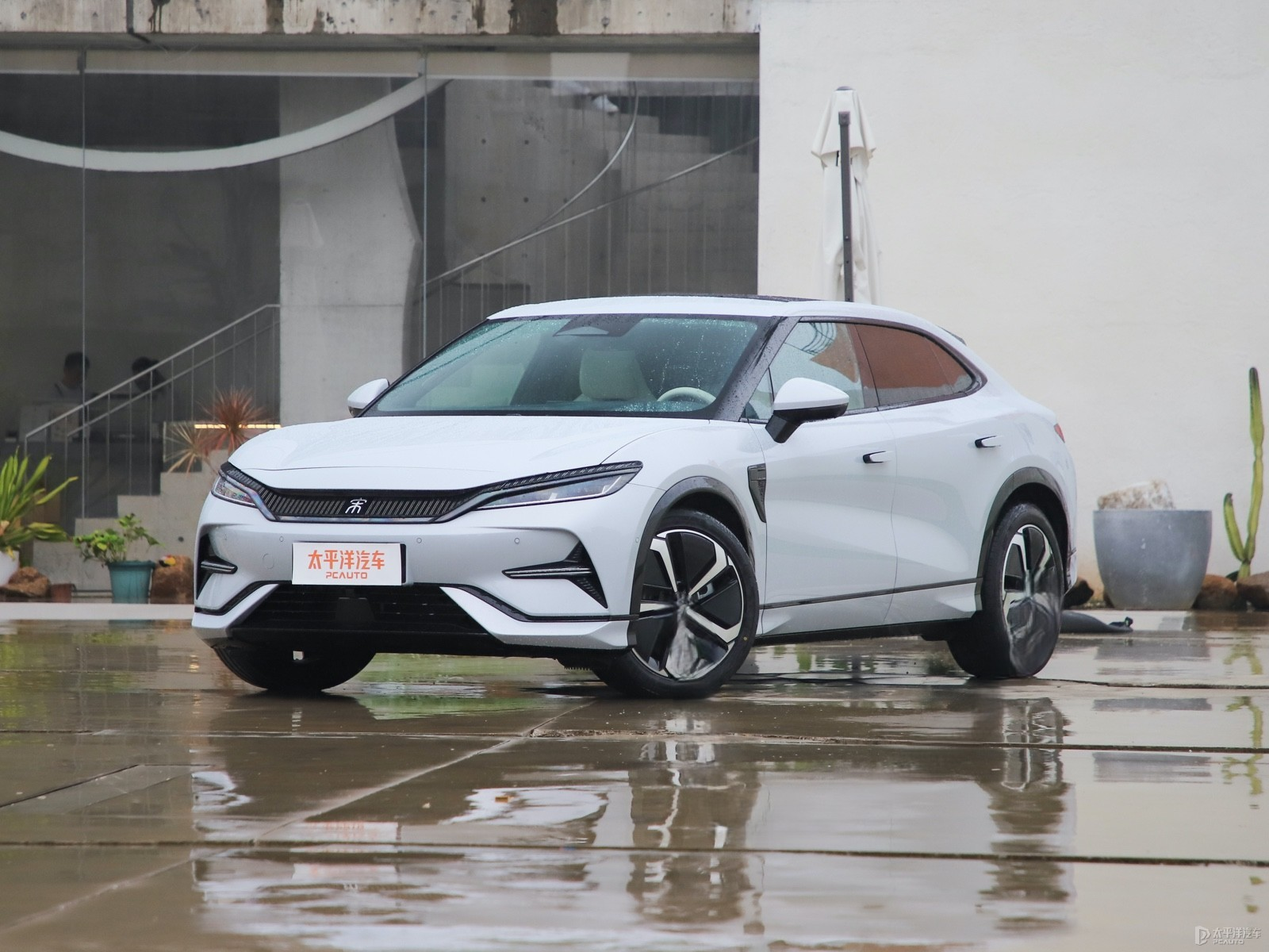BYD Song: (346, 497, 366, 513)
